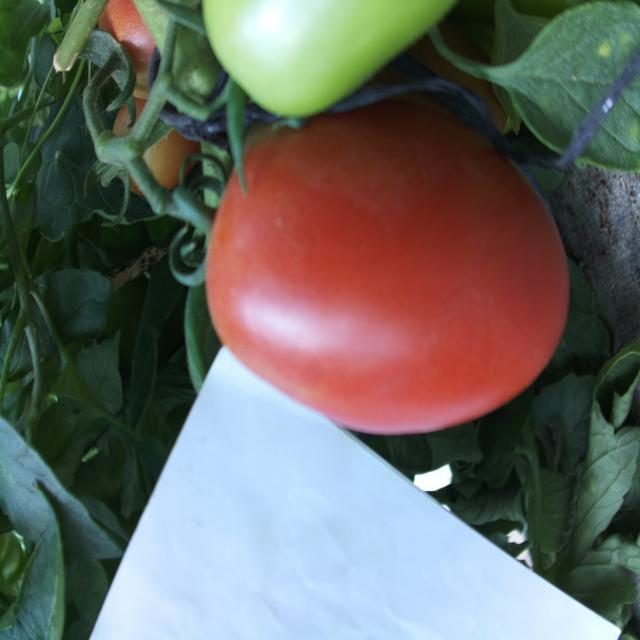kirmizi: (197, 94, 592, 450)
